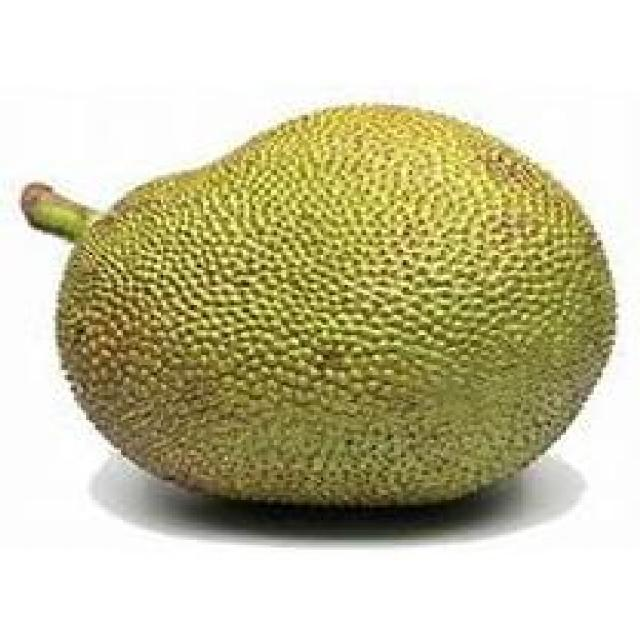fruit: (46, 232, 419, 640), (277, 220, 615, 635)
